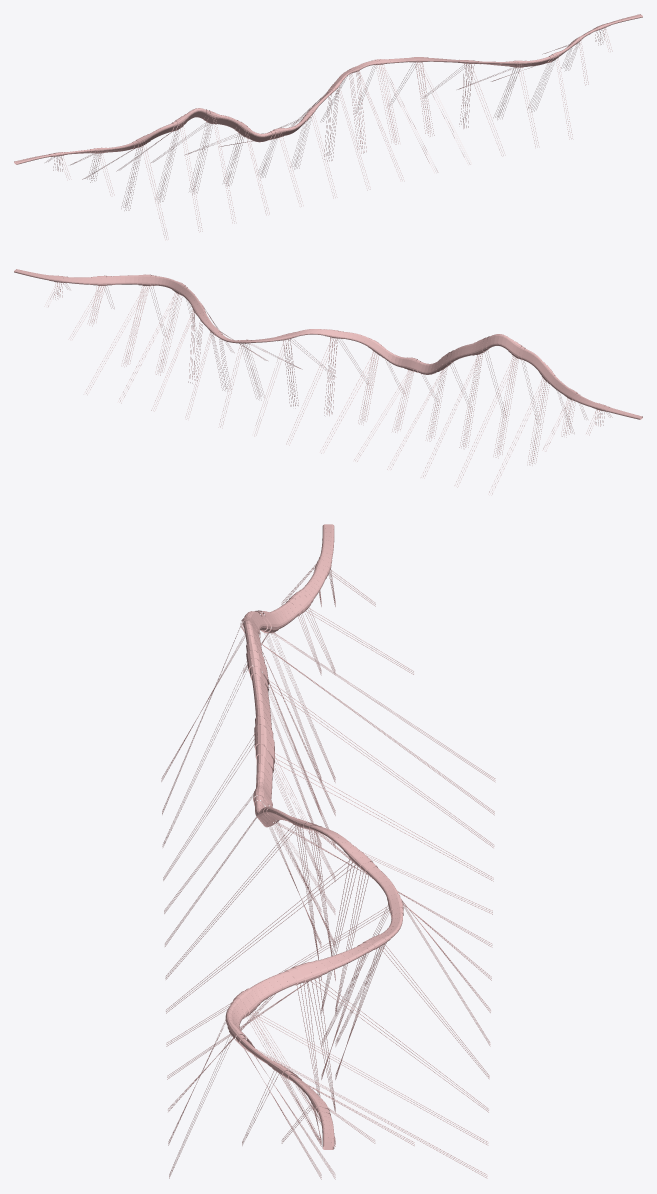
The model's file is structure_sf.glb.
3 renders of one model, top to bottom at view 1: azimuth 30°, elevation 25°; view 2: azimuth 150°, elevation 25°; view 3: azimuth 270°, elevation 25°, orthographic. The views are drawn at different scales.
Parts seen in each view (by area): view 1: n1; view 2: n1; view 3: n1.
Part boxes in pixels (x1,y1,x2,y2): n1: [14, 14, 642, 240]; n1: [14, 269, 642, 495]; n1: [161, 524, 495, 1179].
Bounding box in the file's own units: 3700 × 585 × 856.
